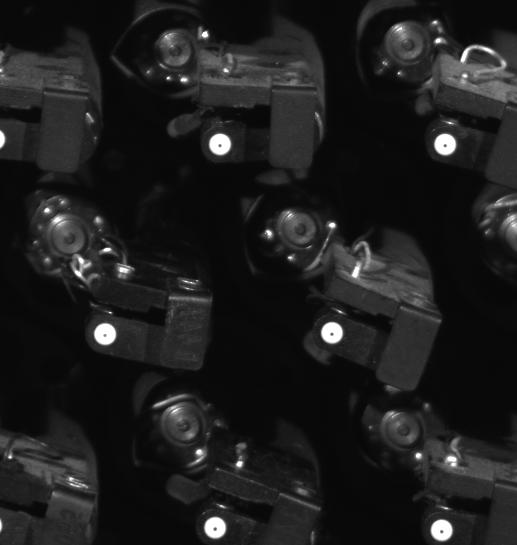fiber: (428, 129, 463, 162), (197, 511, 233, 543), (425, 517, 462, 544), (206, 129, 236, 162), (316, 319, 350, 347), (91, 319, 121, 349)
